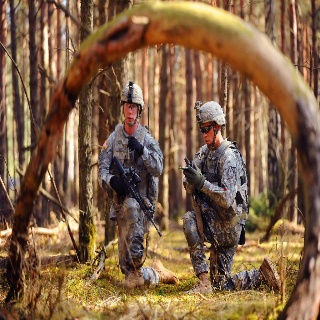rifle: (110, 155, 162, 236)
